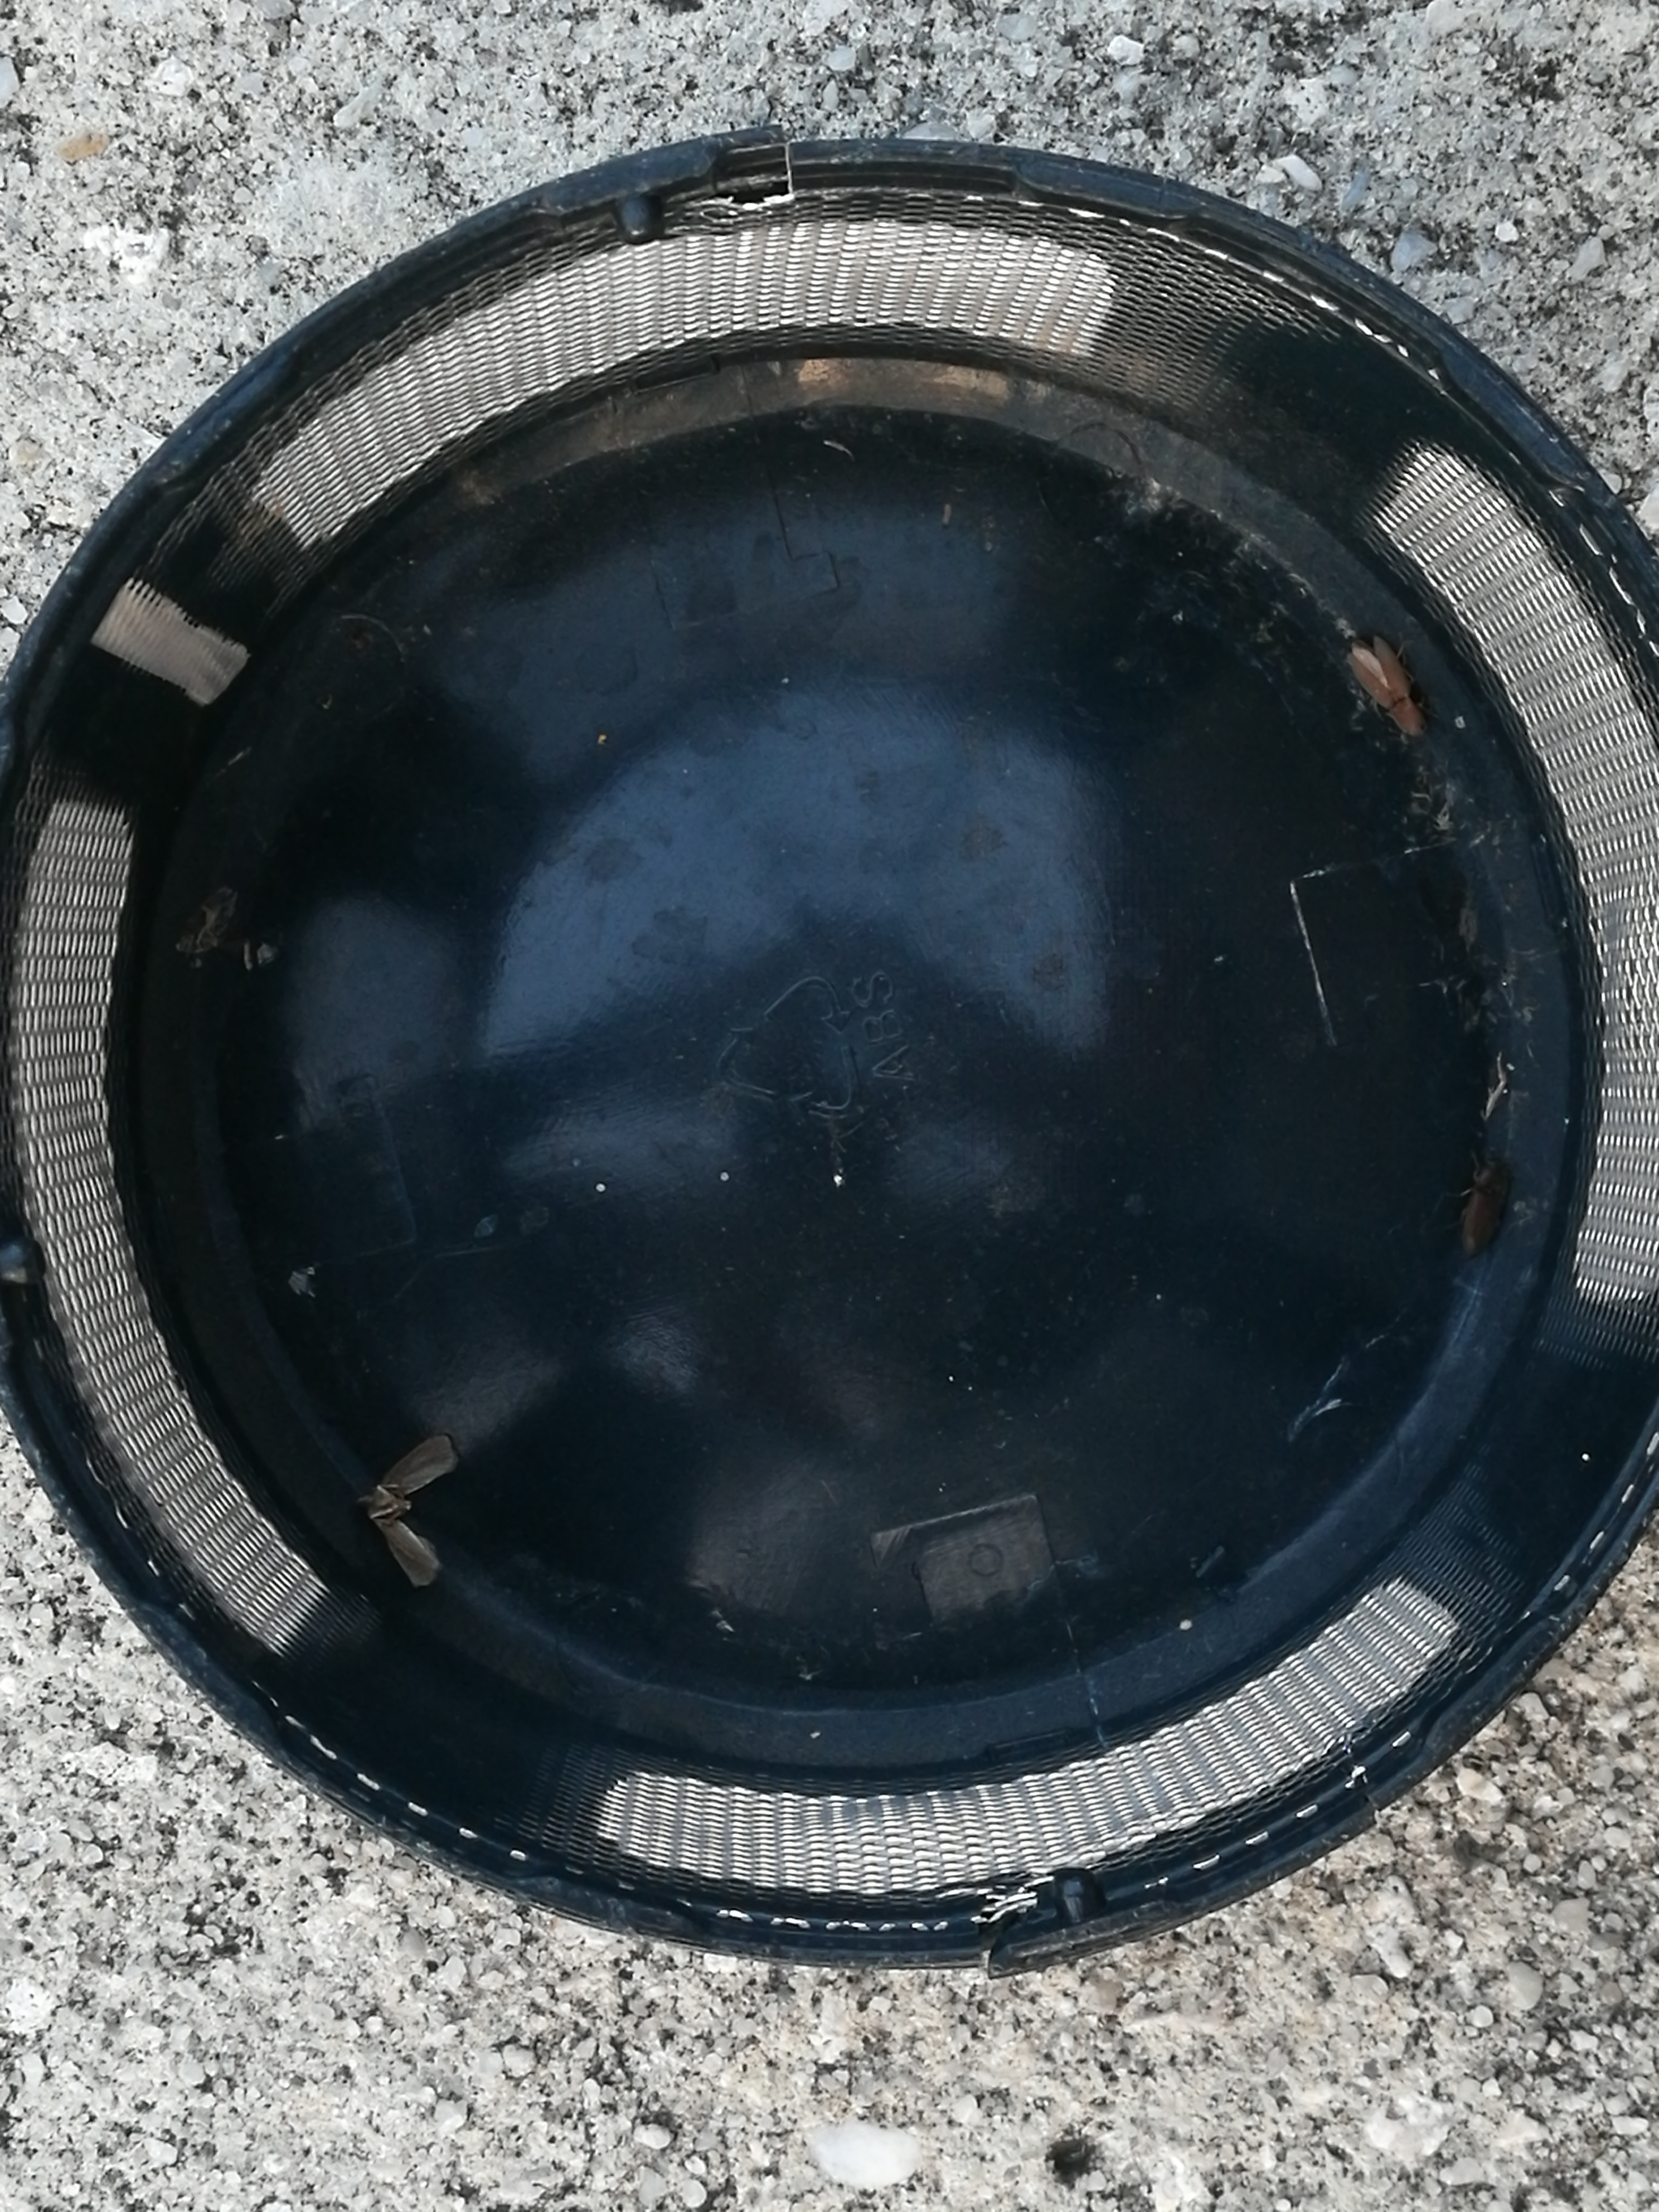mosquito: (1345, 637, 1424, 735), (1464, 1157, 1506, 1251)
moth: (369, 1433, 458, 1588)
